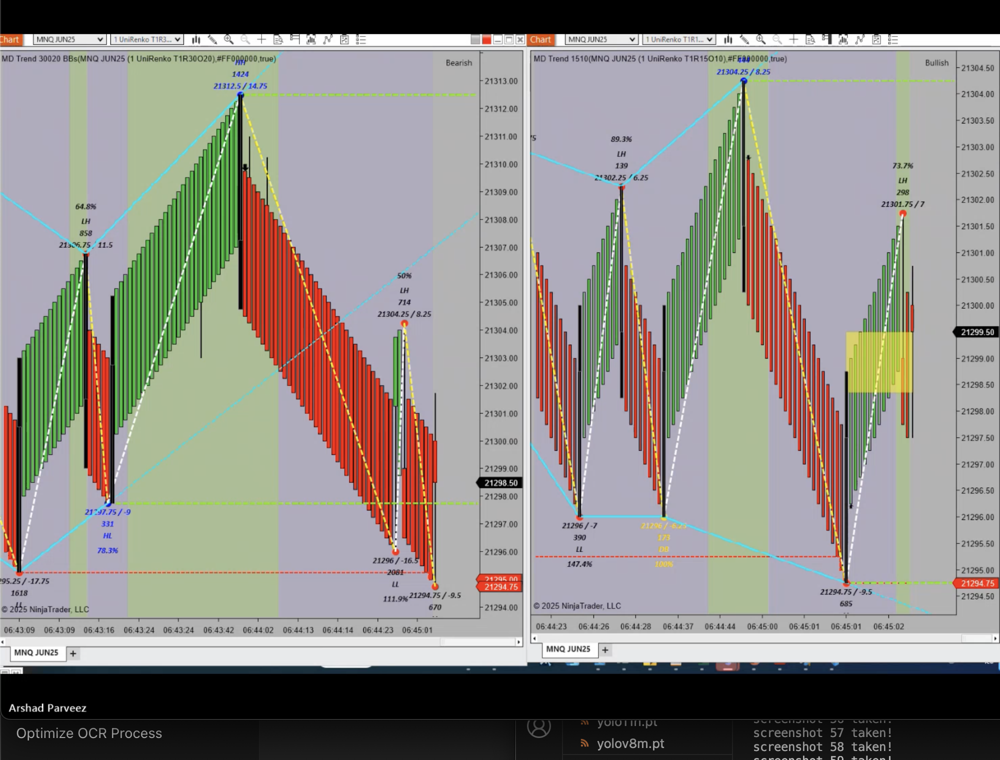HH: (230, 56, 253, 69)
HL: (97, 526, 120, 542)
LH: (613, 144, 634, 163), (890, 172, 915, 187), (394, 283, 416, 298), (76, 216, 96, 226)
LL: (386, 578, 407, 592), (569, 543, 589, 556), (9, 599, 27, 612)
